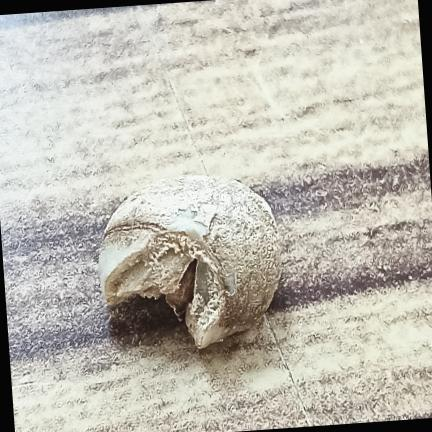cut: (98, 175, 280, 347)
